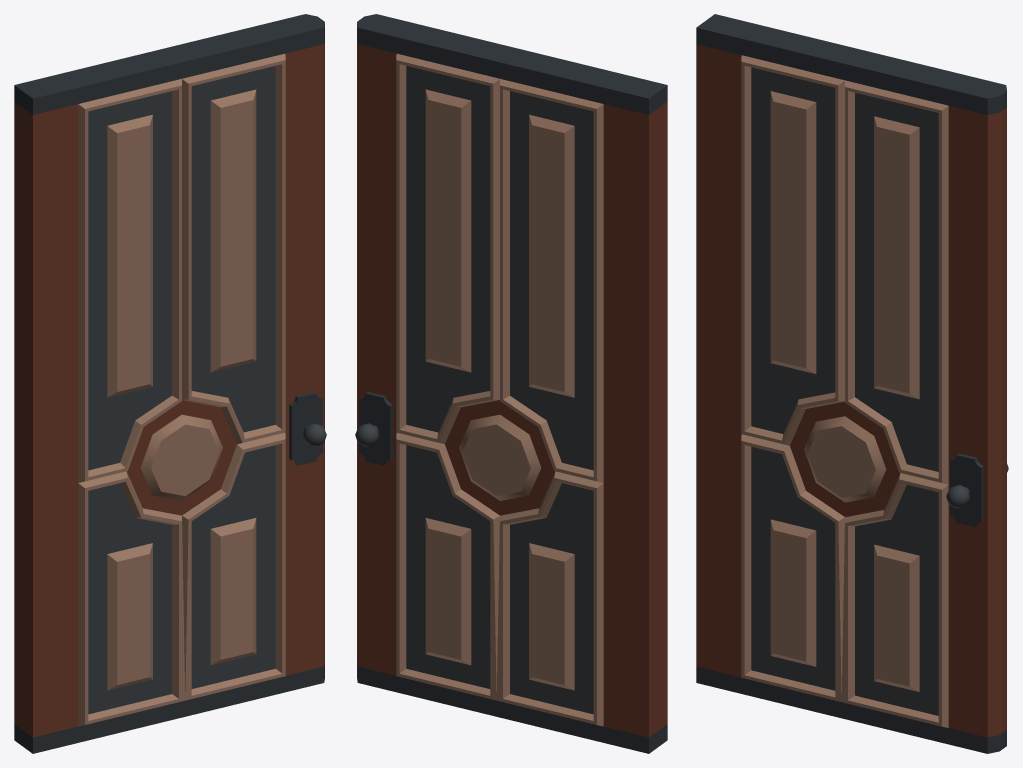
The model's file is SM_Buildings_House_07_Door_L.fbx.
3 renders of one model, left to right at view 1: azimuth 30°, elevation 25°; view 2: azimuth 150°, elevation 25°; view 3: azimuth 330°, elevation 25°, orthographic.
Visible parts, largest first — view 1: SM_Buildings_House_07_Door_L; view 2: SM_Buildings_House_07_Door_L; view 3: SM_Buildings_House_07_Door_L.
Part boxes in pixels (x1,y1,x2,y2): SM_Buildings_House_07_Door_L: (14, 14, 326, 753); SM_Buildings_House_07_Door_L: (355, 14, 667, 753); SM_Buildings_House_07_Door_L: (696, 14, 1008, 753).
Bounding box in the file's own units: 0.9195 × 1.93 × 0.2705.
